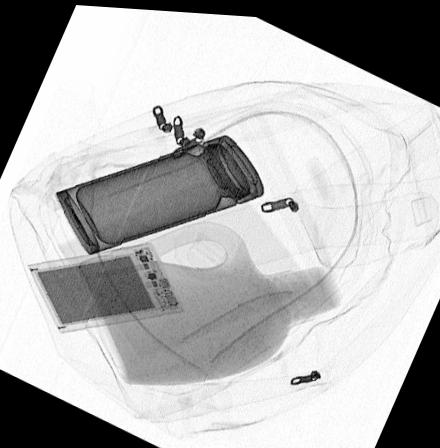Powerbank: (26, 240, 183, 334)
